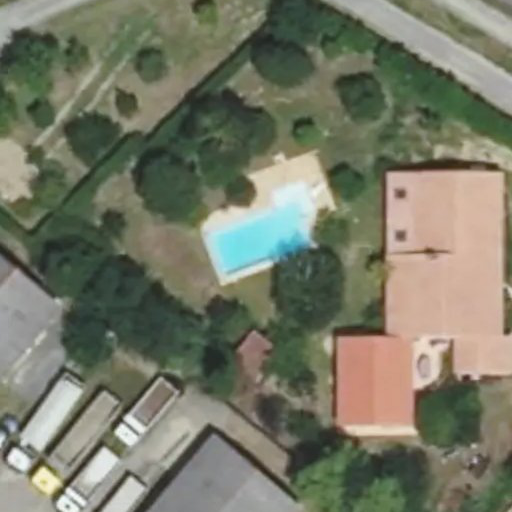pool: (203, 238, 308, 245)
